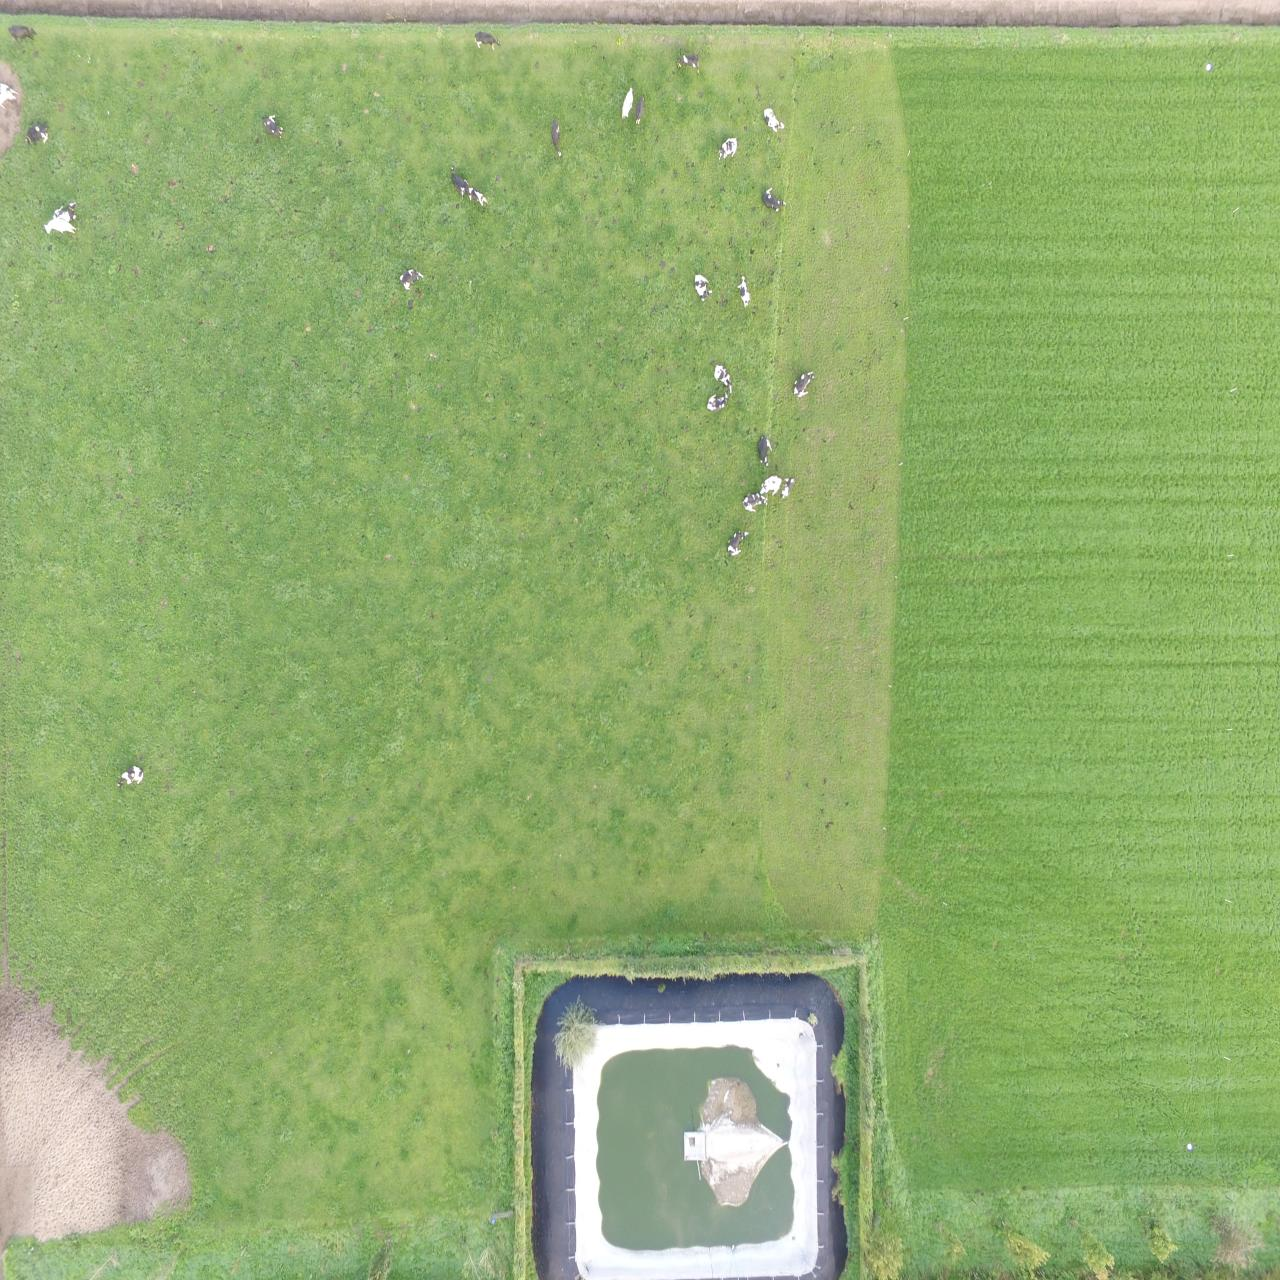cow: (43, 199, 79, 237), (114, 764, 147, 790), (757, 185, 787, 213), (740, 488, 768, 515), (23, 121, 50, 148), (6, 25, 40, 46), (692, 270, 712, 305), (723, 530, 750, 556), (448, 163, 467, 199), (713, 360, 734, 392), (259, 113, 284, 139), (471, 29, 502, 50), (0, 80, 19, 114), (467, 182, 490, 209), (762, 105, 785, 132), (400, 264, 423, 290), (736, 274, 753, 309), (754, 433, 769, 470), (760, 470, 781, 495), (717, 136, 737, 162), (792, 367, 806, 403), (704, 393, 731, 411), (676, 54, 700, 75), (551, 117, 561, 158), (620, 83, 632, 120), (781, 475, 795, 499), (635, 94, 645, 127)
